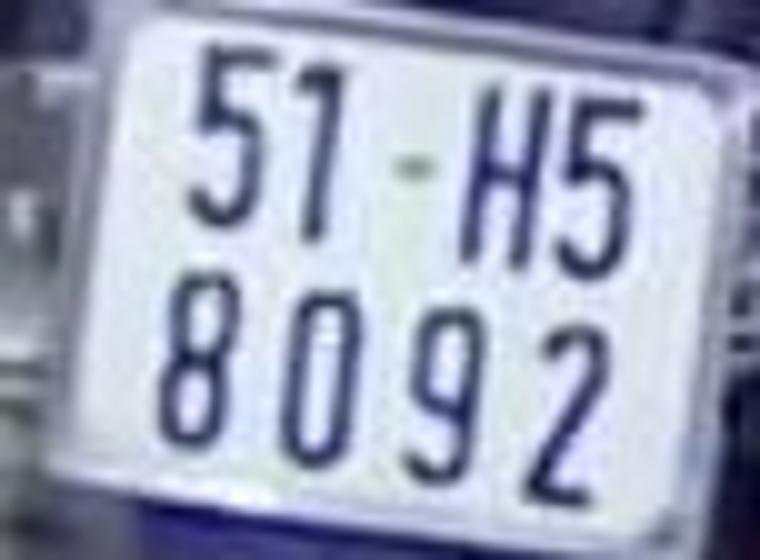-: (379, 155, 432, 183)
0: (278, 293, 358, 468)
1: (295, 56, 335, 239)
2: (523, 323, 605, 509)
5: (186, 40, 269, 224), (564, 93, 637, 285)
8: (159, 271, 233, 441)
9: (405, 309, 477, 488)
H: (463, 82, 545, 271)
